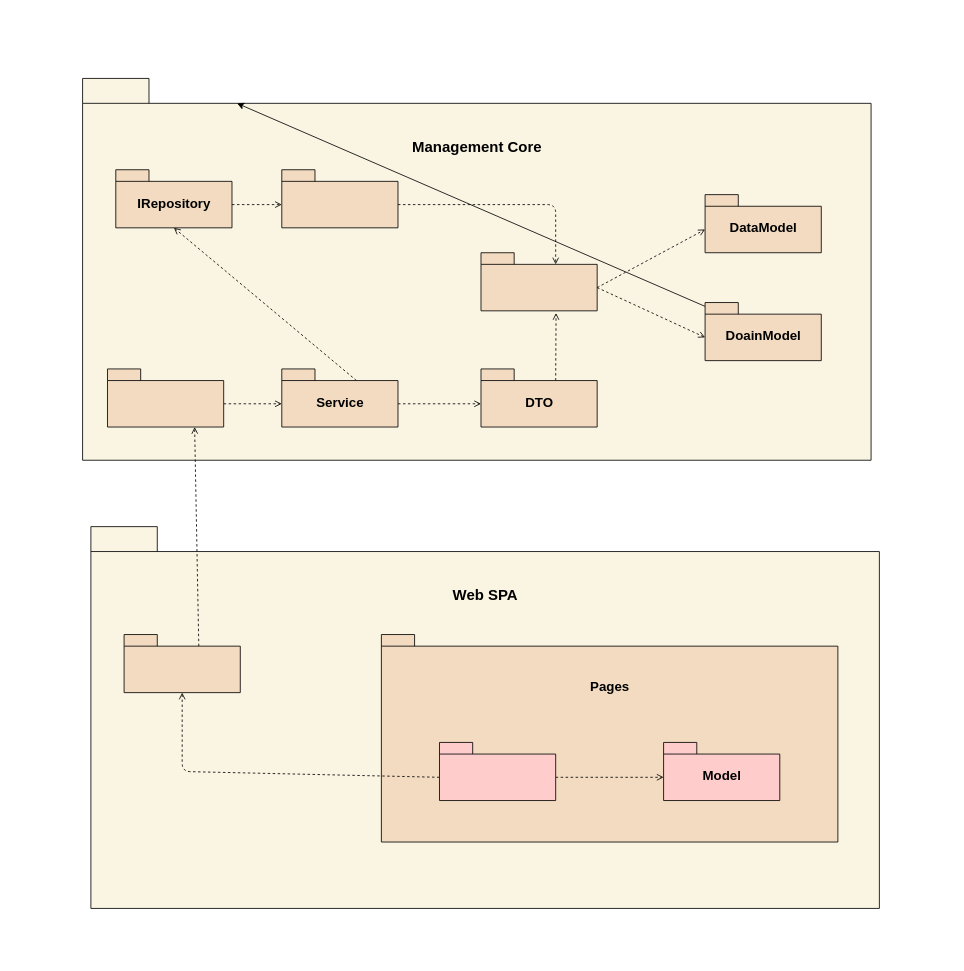
This 964x971 diagram has some shape labels left out. The centre of each missing label's shape, as x and y in pixels:
Components: point (497, 771)
Controller: point (165, 397)
Mapper: point (538, 281)
Repository: point (339, 198)
Services: point (181, 663)
